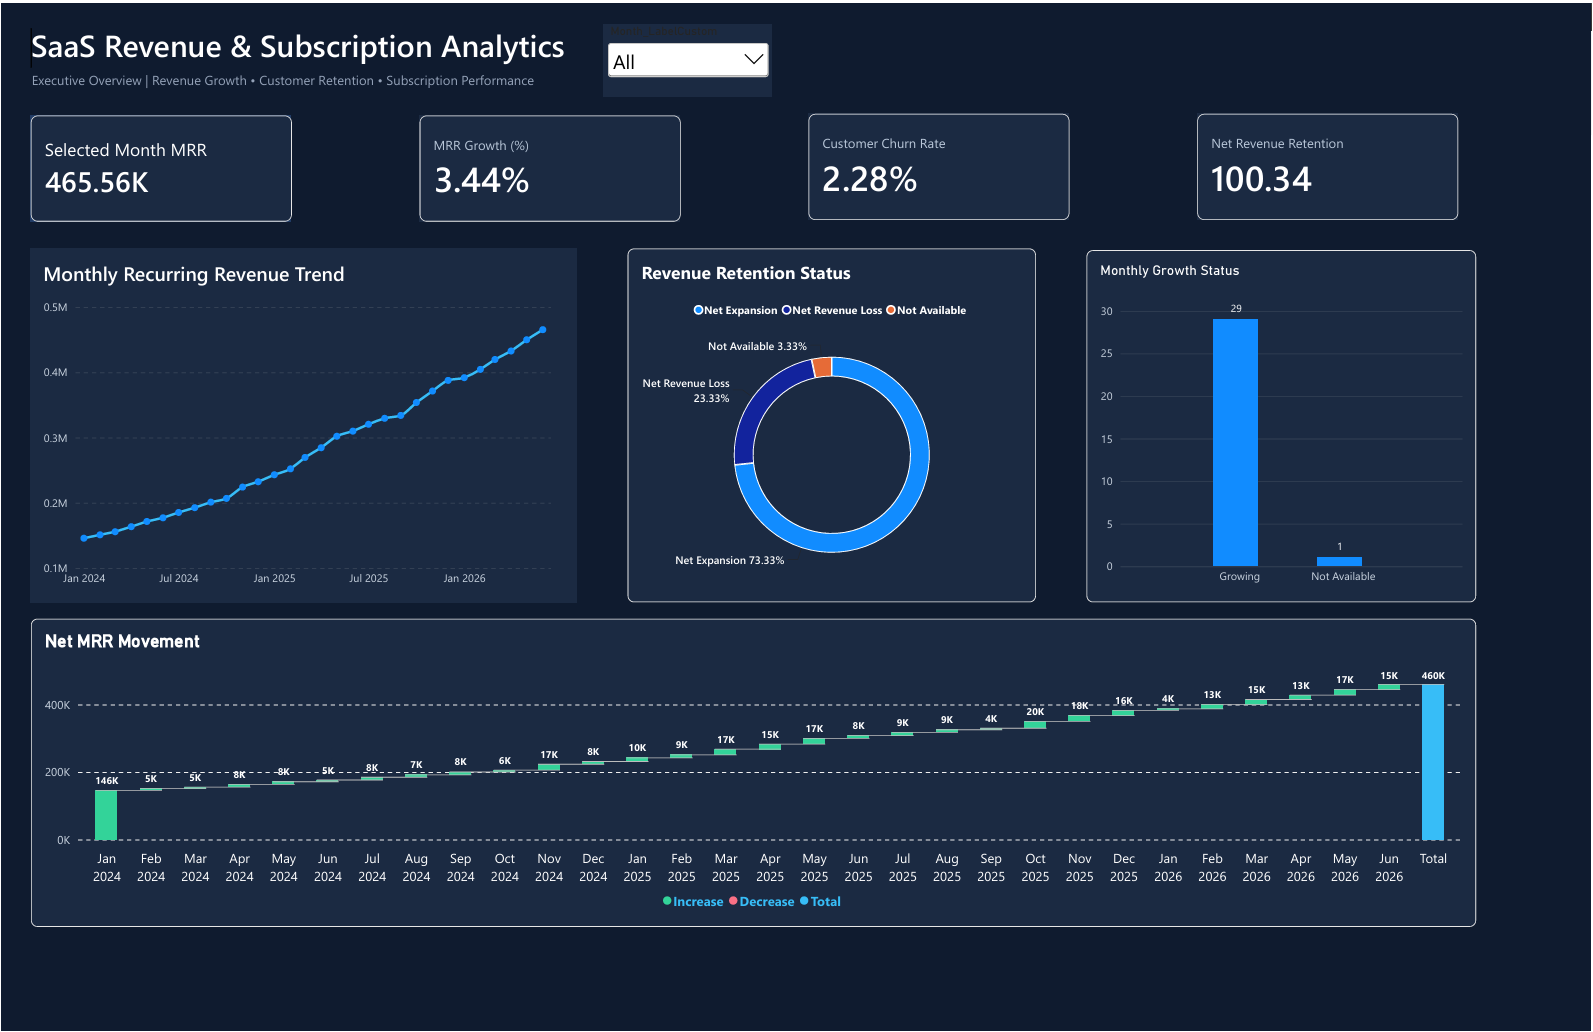

What the dashboard file says about the page in this screenshot:
{"tool":"powerbi","page":{"name":"SaaS Executive Overview","canvas":[1950,1260],"ordinal":0},"visuals":[{"type":"textbox","box":[35.9,25.3,671.4,54.9],"z":0},{"type":"textbox","box":[37,81.8,850.6,32.4],"z":1},{"type":"cardVisual","fields":{"Data":["Fact_SaaS_Monthly_KPI.Latest MRR Growth %"]},"box":[512.9,137.4,320,130],"z":3},{"type":"cardVisual","fields":{"Data":["Fact_SaaS_Monthly_KPI.Latest Customer Churn %"]},"box":[989.8,135.4,320,130],"z":4},{"type":"cardVisual","fields":{"Data":["Fact_SaaS_Monthly_KPI.Latest NRR %"]},"box":[1466.8,135.4,320,130],"z":5},{"type":"lineChart","title":"Monthly Recurring Revenue Trend","fields":{"Category":["Fact_SaaS_Monthly_KPI.Month"],"Y":["Sum(Fact_SaaS_Monthly_KPI.Total_MRR_USD)"]},"box":[35.1,300.2,670.7,434.3],"z":6},{"type":"waterfallChart","title":"Net MRR Movement","fields":{"Category":["Fact_SaaS_Monthly_KPI.Month_LabelCustom"],"Y":["Fact_SaaS_Monthly_KPI.Net MRR Movement"]},"box":[35.9,753.7,1773.5,377.9],"z":7},{"type":"donutChart","title":"Revenue Retention Status","fields":{"Category":["Dim_SaaS_Performance_Status.Revenue_Retention_Status"],"Y":["CountNonNull(Dim_SaaS_Performance_Status.Revenue_Retention_Status)"]},"box":[768.3,299.5,500.6,434.9],"z":8},{"type":"clusteredColumnChart","title":"Monthly Growth Status","fields":{"Category":["Dim_SaaS_Performance_Status.Growth_Status"],"Y":["CountNonNull(Dim_SaaS_Performance_Status.Growth_Status)"]},"box":[1331.4,301.6,478,432.9],"z":9},{"type":"slicer","fields":{"Values":["Fact_SaaS_Monthly_KPI.Month_LabelCustom"]},"box":[738.9,25.3,206.9,88.7],"z":10},{"type":"cardVisual","fields":{"Data":["Fact_SaaS_Monthly_KPI.Selected Month MRR"]},"box":[35.9,137.2,320,130],"z":11}]}

Visuals, with their boxes in screenshot pixels (x1, y1, x2, y2), scaled from the page's 1950x1260 canvas onto the 1593x1032 screenshot:
textbox: box=[29, 21, 578, 66]
textbox: box=[30, 67, 725, 94]
cardVisual - Fact_SaaS_Monthly_KPI.Latest MRR Growth %: box=[419, 113, 680, 219]
cardVisual - Fact_SaaS_Monthly_KPI.Latest Customer Churn %: box=[809, 111, 1070, 217]
cardVisual - Fact_SaaS_Monthly_KPI.Latest NRR %: box=[1198, 111, 1460, 217]
"Monthly Recurring Revenue Trend" lineChart: box=[29, 246, 577, 602]
"Net MRR Movement" waterfallChart: box=[29, 617, 1478, 927]
"Revenue Retention Status" donutChart: box=[628, 245, 1037, 602]
"Monthly Growth Status" clusteredColumnChart: box=[1088, 247, 1478, 602]
slicer - Fact_SaaS_Monthly_KPI.Month_LabelCustom: box=[604, 21, 773, 93]
cardVisual - Fact_SaaS_Monthly_KPI.Selected Month MRR: box=[29, 112, 291, 219]
